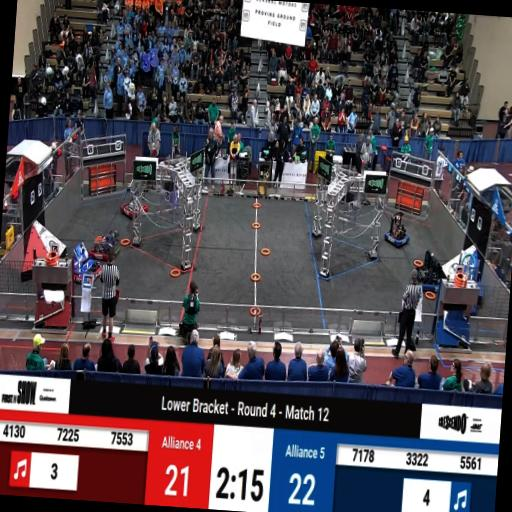robot: (72, 236, 116, 287), (410, 252, 448, 302), (384, 211, 410, 249), (120, 188, 150, 220), (90, 234, 121, 264)
